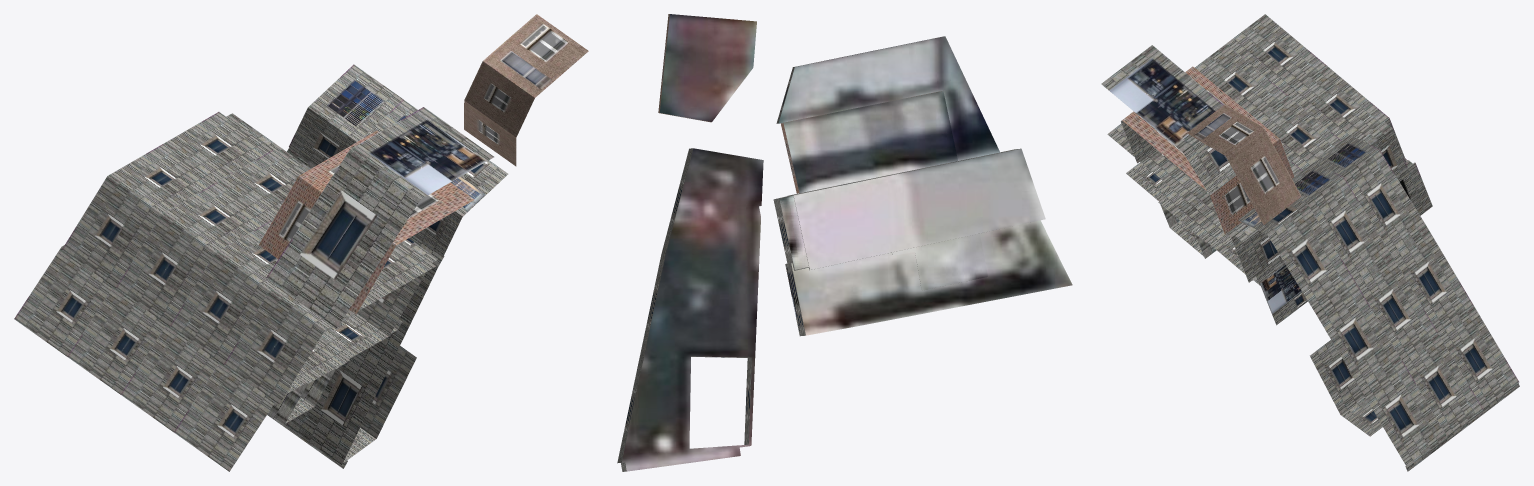
3 views of the same model, side by side, from view 1: azimuth 30°, elevation 25°; view 2: azimuth 150°, elevation 25°; view 3: azimuth 270°, elevation 25° (orthographic). The views are drawn at different scales.
Size of the model in its own units: 29.1 by 24.88 by 26.34.
28 materials, 28 textured.
